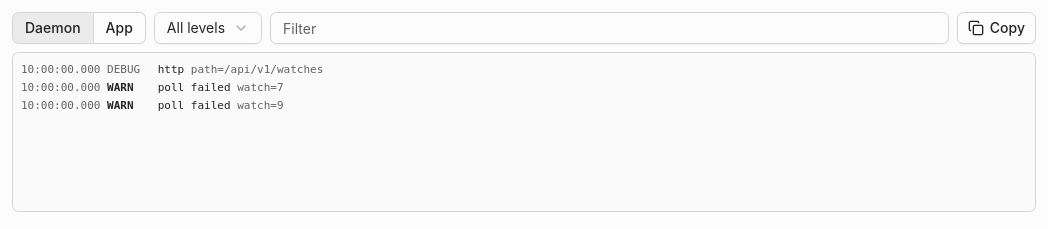
Test: keeps the records at the level chosen that carry the text typed
Expected: the text "http" is shown, [158, 63, 184, 76]
Step 1. Click the dropdown named "Lowest level shown" → (208, 28), box [154, 12, 262, 44]
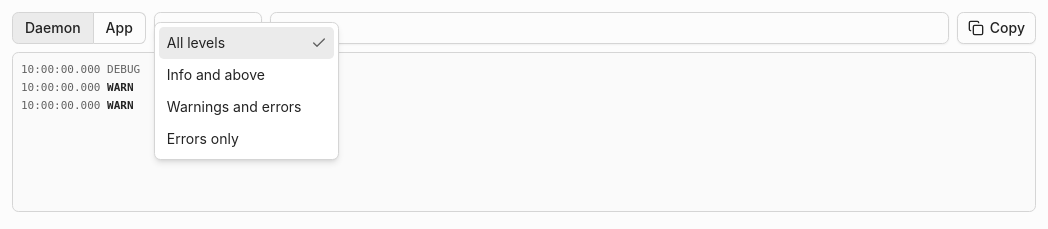
Step 2. Click the option "Warnings and errors" → (234, 106), box [167, 98, 302, 115]
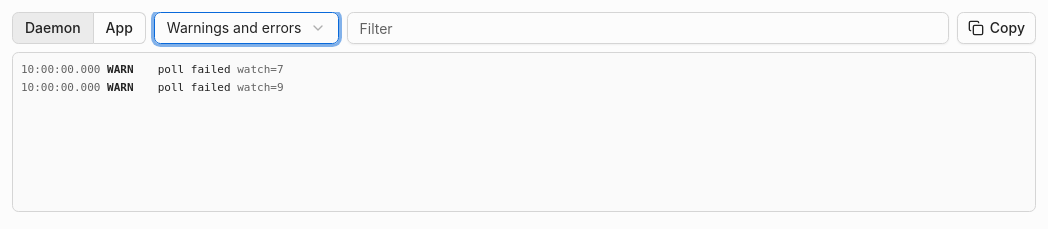
Now the text "http" is gone
Now the text "poll failed" is shown 2 times, box [158, 63, 231, 76]; [158, 81, 231, 94]
Step 3. Type "watch=9" into the search field named "Filter the log" → (648, 28), box [346, 12, 949, 44]
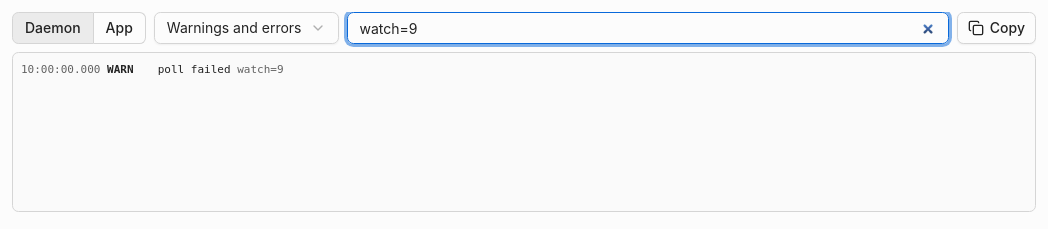
Expected: the text "watch=9" is shown, [231, 63, 284, 76]
Now the text "poll failed" is shown once, box [158, 63, 231, 76]
